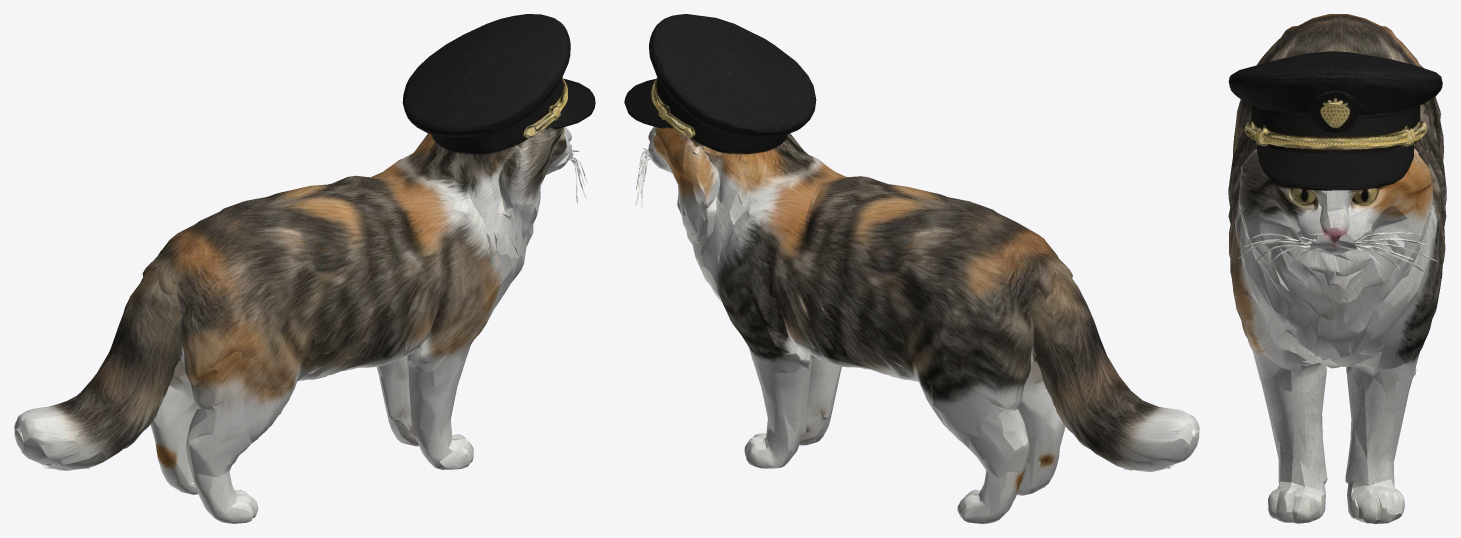
File: NITAMACAT.glb
3 views of the same model, side by side, from view 1: azimuth 30°, elevation 25°; view 2: azimuth 150°, elevation 25°; view 3: azimuth 270°, elevation 25° (orthographic). The views are drawn at different scales.
Visible parts, largest first — view 1: fit; view 2: fit; view 3: fit.
Part boxes in pixels (left/top/right/bottom): fit: left=14, top=14, right=595, bottom=523; fit: left=624, top=14, right=1199, bottom=523; fit: left=1228, top=14, right=1446, bottom=523.
Bounding box in the file's own units: 1.48 × 1 × 0.3822.
1 material, 1 textured.
